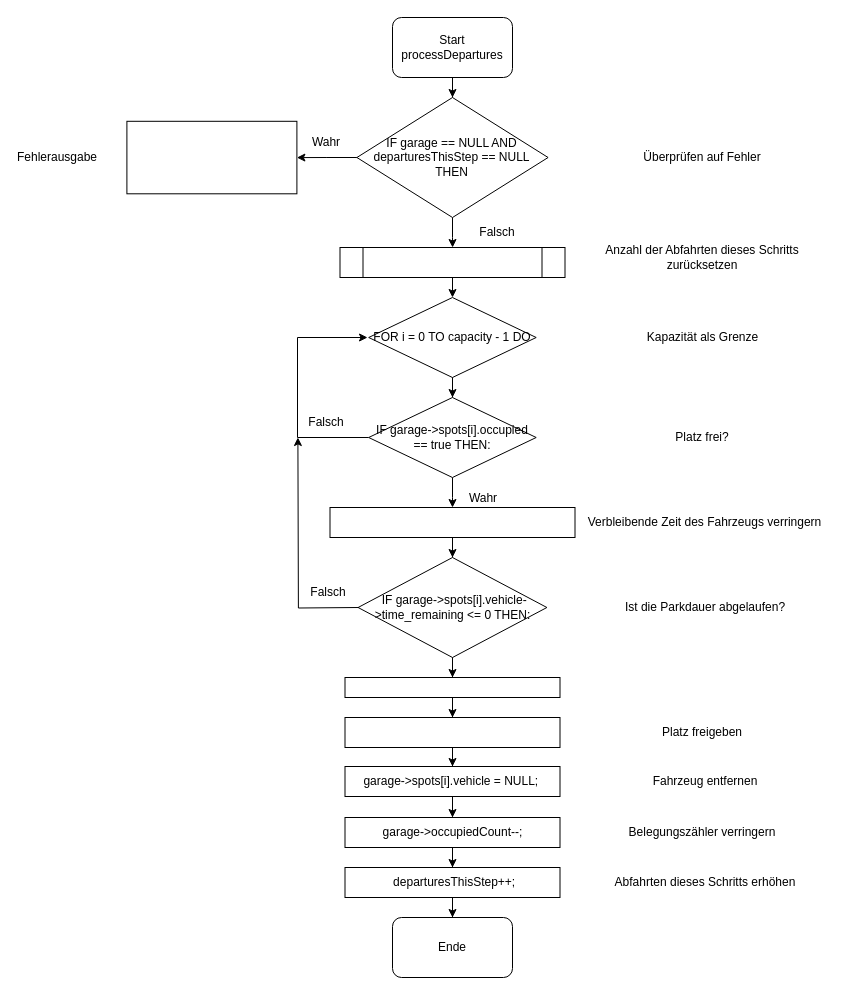
This 843x995 diagram has some shape labels left out. Each missing label, with the box of its shape:
departuresThisStep auf 0 setzen: (339, 246, 565, 278)
Fahrzeug verlässt den Platz: (344, 676, 560, 698)
garage->spots[i].occupied = false;: (344, 716, 560, 748)
garage->spots[i].vehicle->time_remaining -- ;: (329, 506, 575, 538)
OUTPUT "Fehler: Ungültige Parameter für processDepartures" RETURN: (126, 120, 297, 194)
